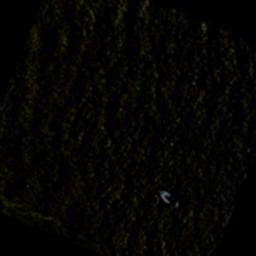boat: (151, 184, 184, 212)
